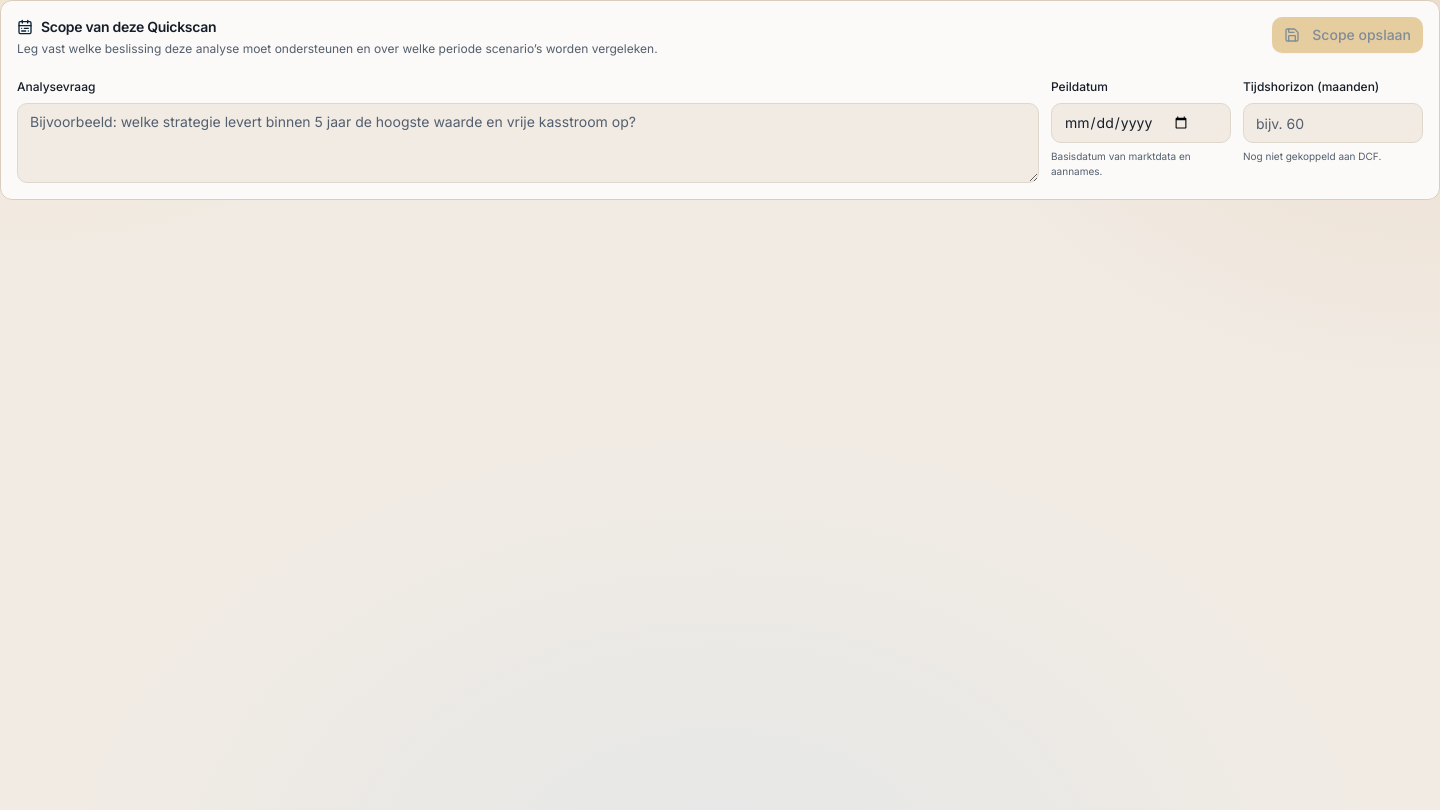
Test case: Vastgoedrekenen taxonomie Fase 3A — Quickscan-scope › blokkeert een ongeldige tijdshorizon vóór persistence
Type "0" into the field labelled "Tijdshorizon (maanden)" at point(1333, 123), box [1243,103,1423,143]
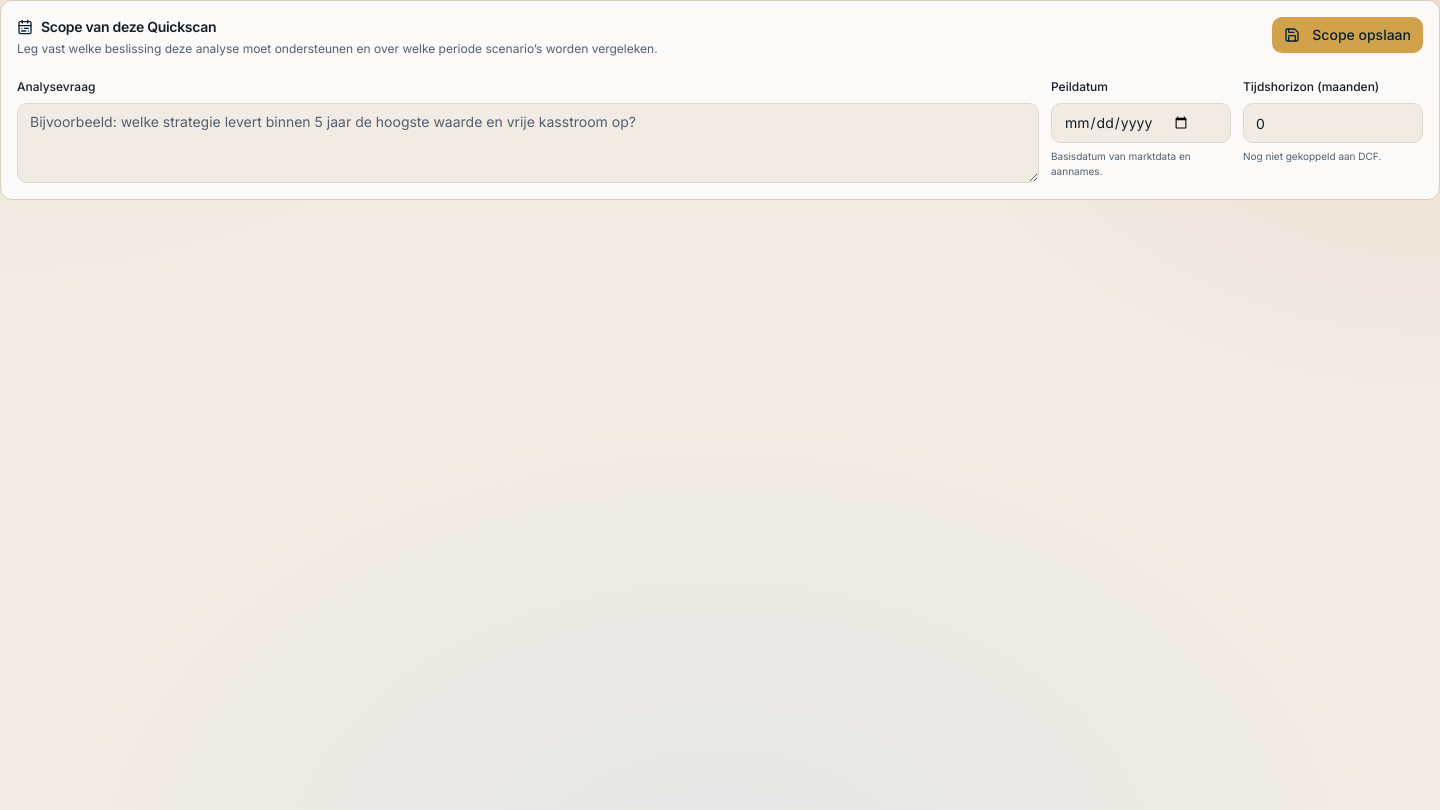
Click the button "Scope opslaan" at point(1348, 35), box [1272,17,1423,53]
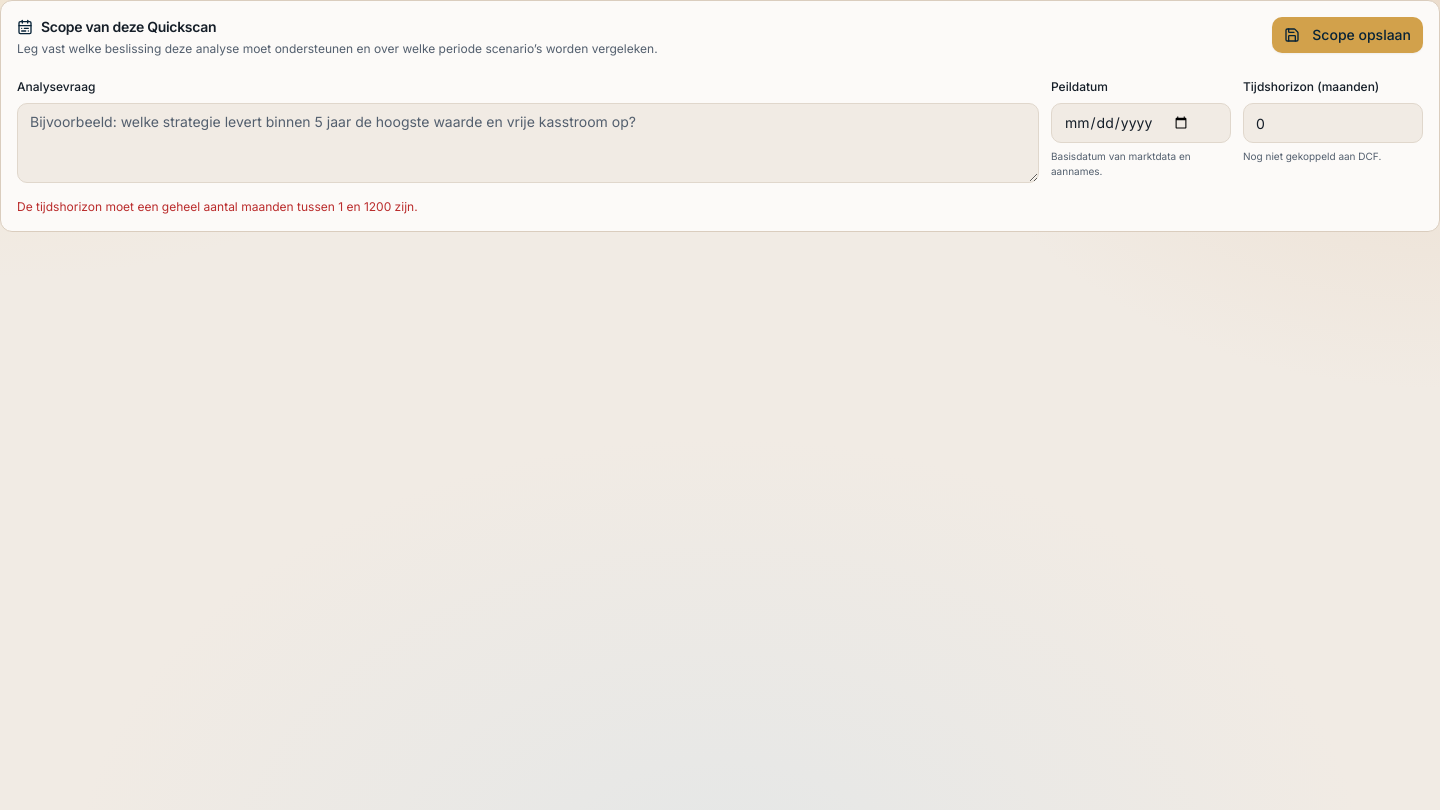
Check: the text "geheel aantal maanden tussen 1 en 1200" is shown, box [17,199,418,214]
